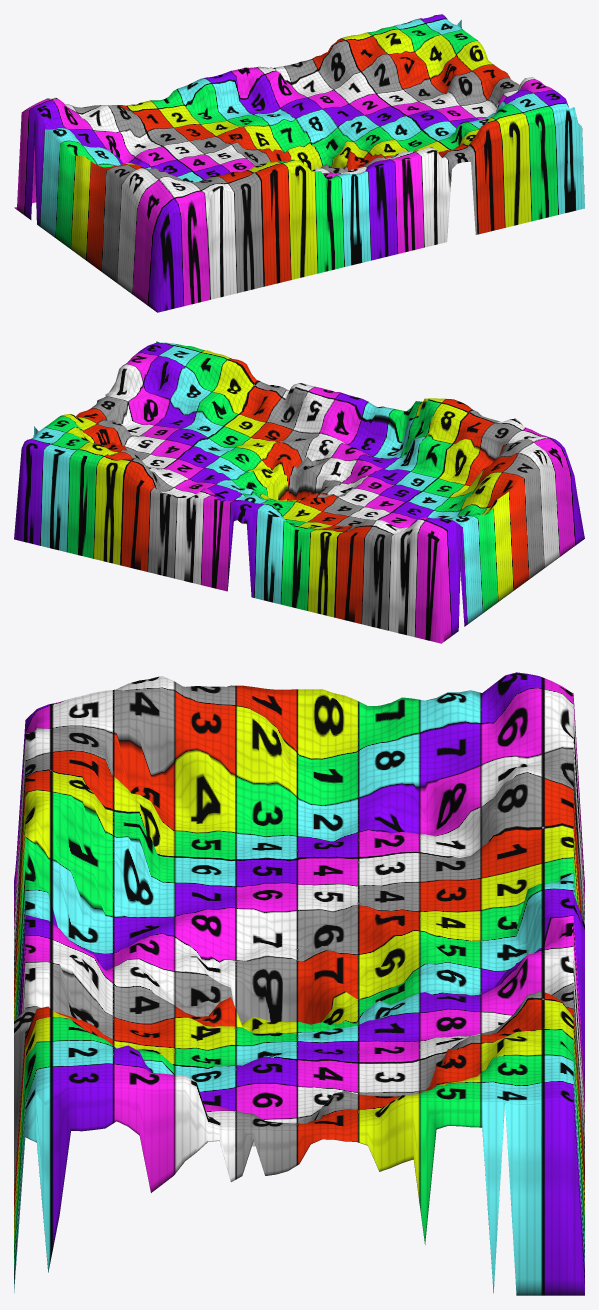
File: arena.FBX
3 views of the same model, one above another, from view 1: azimuth 30°, elevation 25°; view 2: azimuth 150°, elevation 25°; view 3: azimuth 270°, elevation 25° (orthographic). The views are drawn at different scales.
Visible parts, largest first — view 1: Plane001; view 2: Plane001; view 3: Plane001.
Boxes of the visible parts, x1,y1,x2,y2 form: Plane001: (14, 14, 584, 312); Plane001: (14, 341, 584, 643); Plane001: (14, 672, 584, 1295).
Bounding box in the file's own units: 19874 × 4934 × 11551.
Materials: 1 (1 with a texture image).
